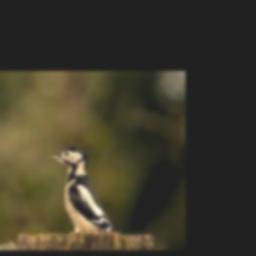Woodpecker: (50, 147, 114, 233)
